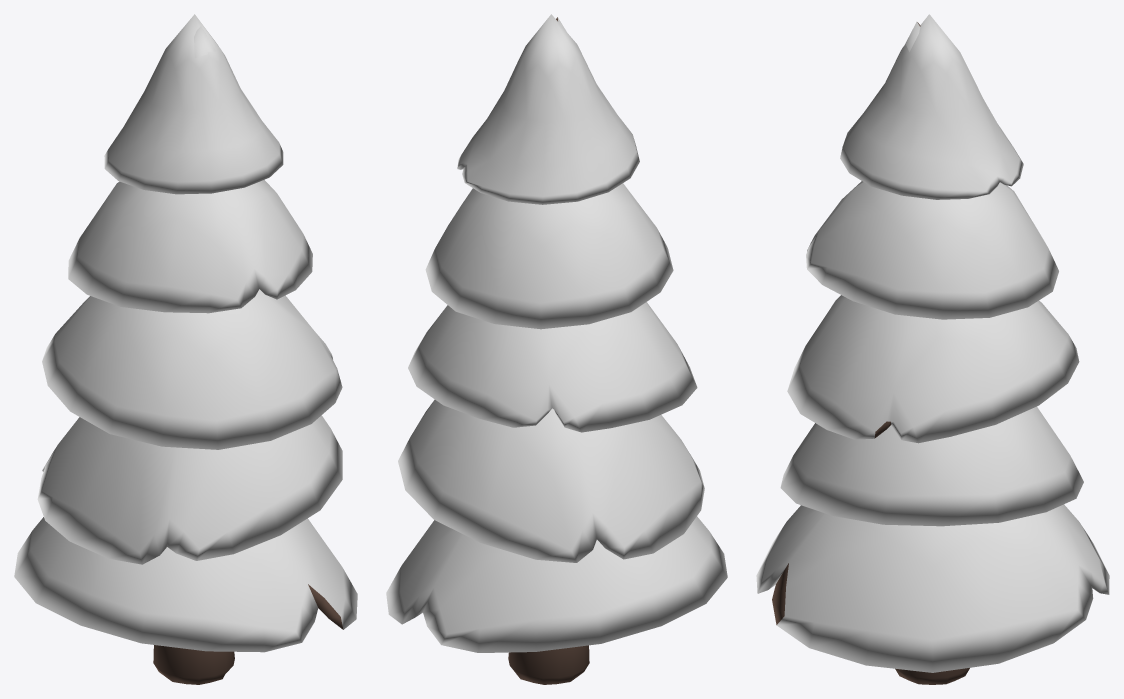
File: ForestPineTree.fbx
3 renders of one model, left to right at view 1: azimuth 30°, elevation 25°; view 2: azimuth 150°, elevation 25°; view 3: azimuth 270°, elevation 25°, orthographic.
Parts seen in each view (by area): view 1: PineTree; view 2: PineTree; view 3: PineTree.
Part boxes in pixels (bbox=[...]): PineTree: bbox=[14, 14, 357, 684]; PineTree: bbox=[386, 14, 727, 684]; PineTree: bbox=[756, 14, 1109, 684].
Size of the model in its own units: 206 by 433 by 210.
